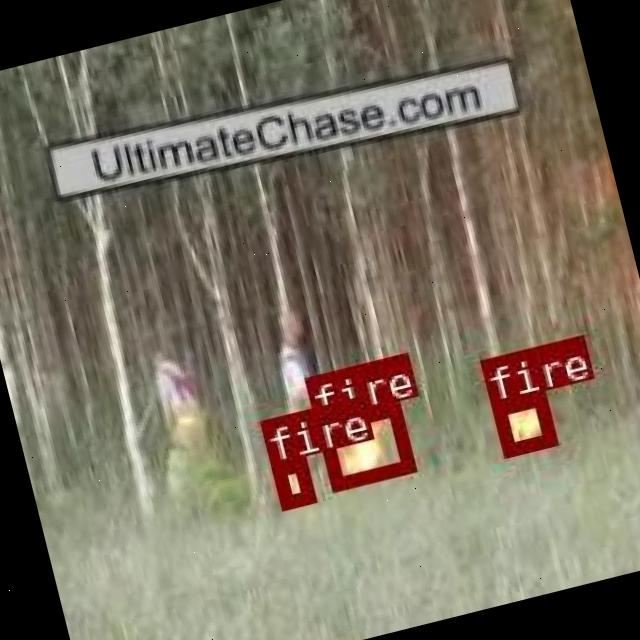fire: (314, 399, 412, 488), (489, 389, 554, 454), (270, 456, 312, 508)
